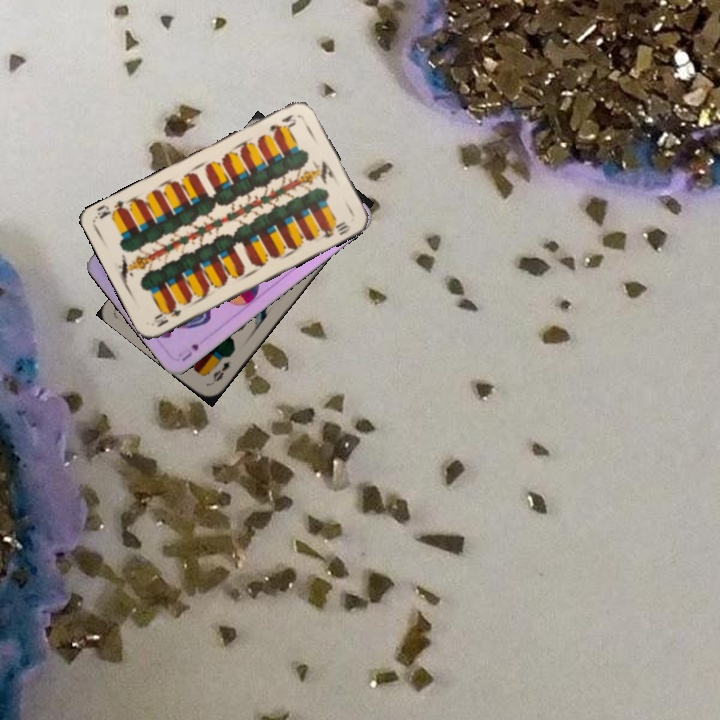E10: (149, 302, 184, 330), (265, 110, 299, 137)
EO: (208, 350, 234, 386)
SU: (178, 340, 201, 364)
